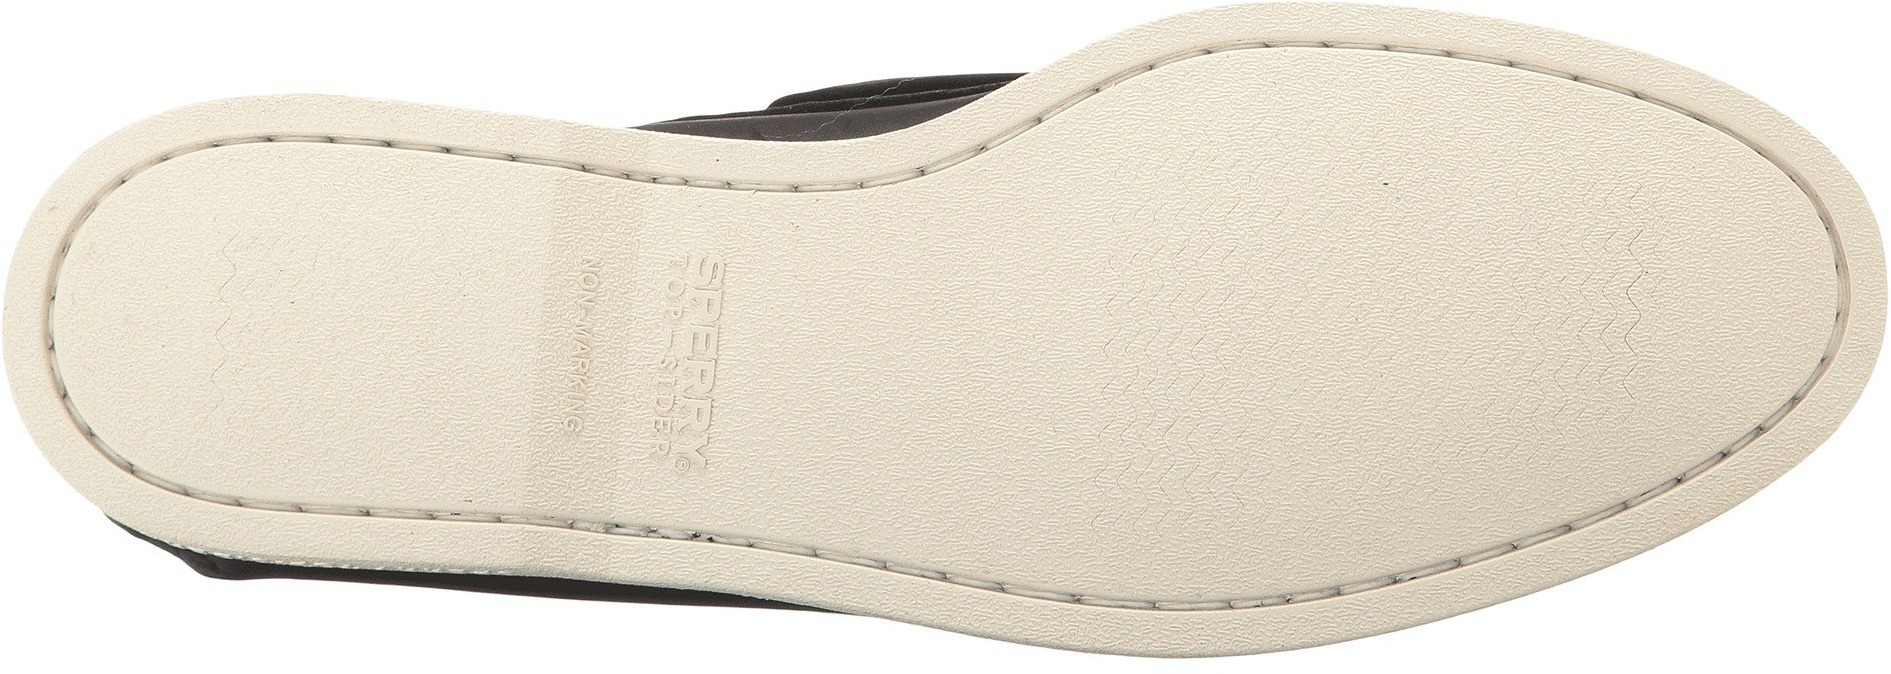chevron: (1124, 80, 1588, 506), (188, 187, 499, 463)
other: (759, 218, 1091, 512), (1669, 227, 1809, 363)
ribbon: (17, 240, 154, 377), (13, 242, 139, 363)
text: (650, 246, 733, 332), (642, 395, 722, 479), (650, 327, 728, 402), (555, 250, 617, 313), (548, 318, 610, 380), (548, 388, 601, 439)
